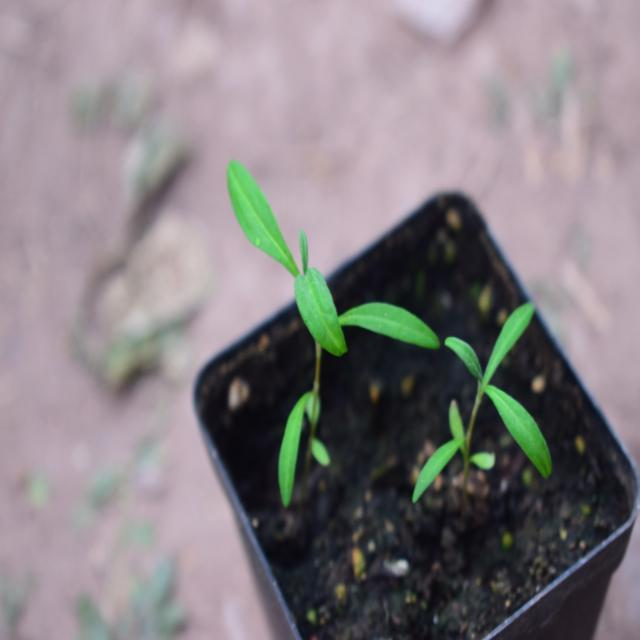white_smart_weed: (225, 140, 448, 500), (401, 252, 564, 504)
